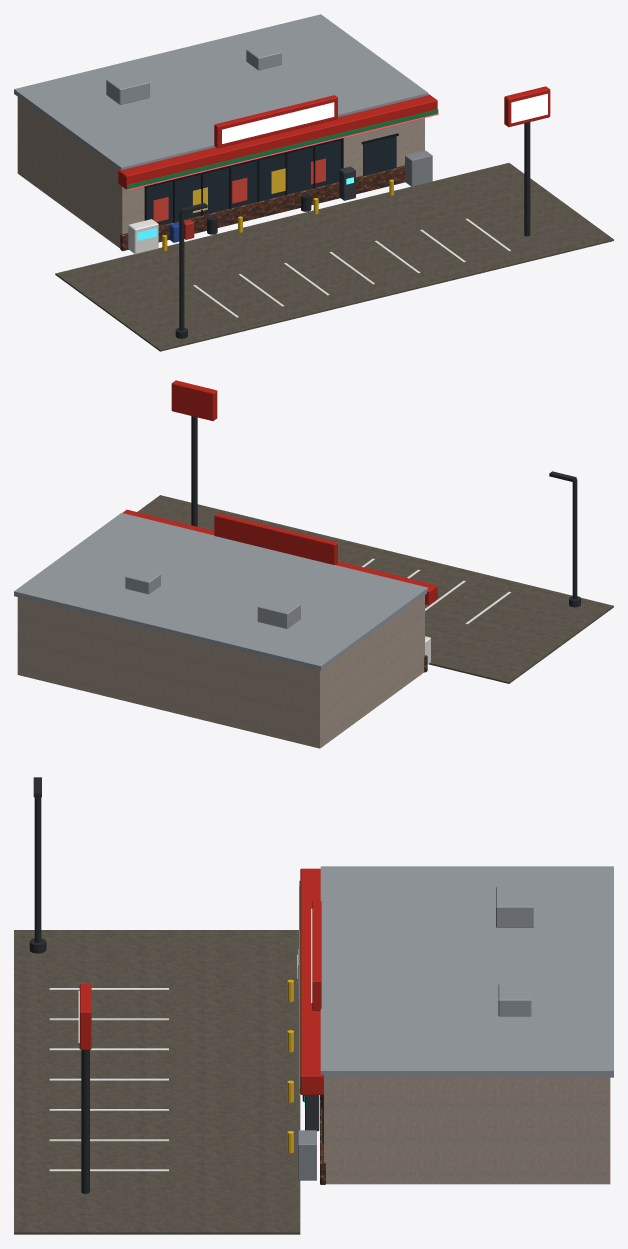
File: OT_Convenience_A.glb
The picture shows the model from 3 angles, top to bottom: view 1: azimuth 30°, elevation 25°; view 2: azimuth 150°, elevation 25°; view 3: azimuth 270°, elevation 25°; orthographic projection. The views are drawn at different scales.
Visible parts, largest first — view 1: OT_Convenience_A_Pavement, OT_Convenience_A_SteelGrey__9aa0a6, OT_Convenience_A_Stucco, OT_Convenience_A_Red__c4261d, OT_Convenience_A_Glass__22303a, OT_Convenience_A_Brick, OT_Convenience_A_SignWhiteGlow__f4f8ff, OT_Convenience_A_Green24__1f8a4c, OT_Convenience_A_Frame__18191c, OT_Convenience_A_Poster2__e2483a, OT_Convenience_A_PoleDark__2a2c30, OT_Convenience_A_PaintWhite__f0f0ee (+6 smaller); view 2: OT_Convenience_A_SteelGrey__9aa0a6, OT_Convenience_A_Stucco, OT_Convenience_A_Pavement, OT_Convenience_A_Red__c4261d, OT_Convenience_A_PoleDark__2a2c30, OT_Convenience_A_PoleDark__2a2c30.001; view 3: OT_Convenience_A_Pavement, OT_Convenience_A_SteelGrey__9aa0a6, OT_Convenience_A_Stucco, OT_Convenience_A_Red__c4261d, OT_Convenience_A_PaintWhite__f0f0ee, OT_Convenience_A_PoleDark__2a2c30, OT_Convenience_A_PoleDark__2a2c30.001, OT_Convenience_A_Cage__8a8f96, OT_Convenience_A_Yellow__e8b81e.
Part boxes in pixels (x1,y1,x2,y2): OT_Convenience_A_Pavement: (55, 163, 613, 351); OT_Convenience_A_SteelGrey__9aa0a6: (14, 14, 428, 170); OT_Convenience_A_Stucco: (17, 97, 424, 248); OT_Convenience_A_Red__c4261d: (118, 86, 550, 189); OT_Convenience_A_Glass__22303a: (147, 136, 396, 225); OT_Convenience_A_Brick: (120, 165, 404, 251); OT_Convenience_A_SignWhiteGlow__f4f8ff: (222, 93, 547, 143); OT_Convenience_A_Green24__1f8a4c: (126, 109, 438, 189); OT_Convenience_A_Frame__18191c: (144, 133, 398, 222); OT_Convenience_A_Poster2__e2483a: (153, 158, 325, 222); OT_Convenience_A_PoleDark__2a2c30: (175, 203, 207, 338); OT_Convenience_A_PaintWhite__f0f0ee: (193, 218, 510, 317); OT_Convenience_A_SteelGrey__9aa0a6: (14, 513, 428, 670); OT_Convenience_A_Stucco: (17, 595, 424, 748); OT_Convenience_A_Pavement: (137, 495, 613, 683); OT_Convenience_A_Red__c4261d: (122, 380, 437, 605); OT_Convenience_A_PoleDark__2a2c30: (549, 471, 580, 607); OT_Convenience_A_PoleDark__2a2c30.001: (191, 416, 197, 526); OT_Convenience_A_Pavement: (14, 930, 300, 1234); OT_Convenience_A_SteelGrey__9aa0a6: (320, 866, 613, 1077); OT_Convenience_A_Stucco: (324, 1077, 610, 1184); OT_Convenience_A_Red__c4261d: (79, 868, 323, 1094); OT_Convenience_A_PaintWhite__f0f0ee: (49, 988, 168, 1171); OT_Convenience_A_PoleDark__2a2c30: (29, 777, 46, 953); OT_Convenience_A_PoleDark__2a2c30.001: (81, 1050, 89, 1193); OT_Convenience_A_Cage__8a8f96: (298, 1130, 316, 1180); OT_Convenience_A_Yellow__e8b81e: (287, 979, 293, 1153).
Bounding box in the file's own units: 30 × 9.1 × 25.15.
27 materials, 3 textured.
